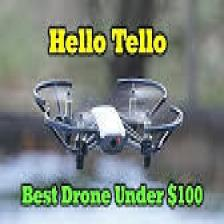drone: (34, 77, 186, 167)
